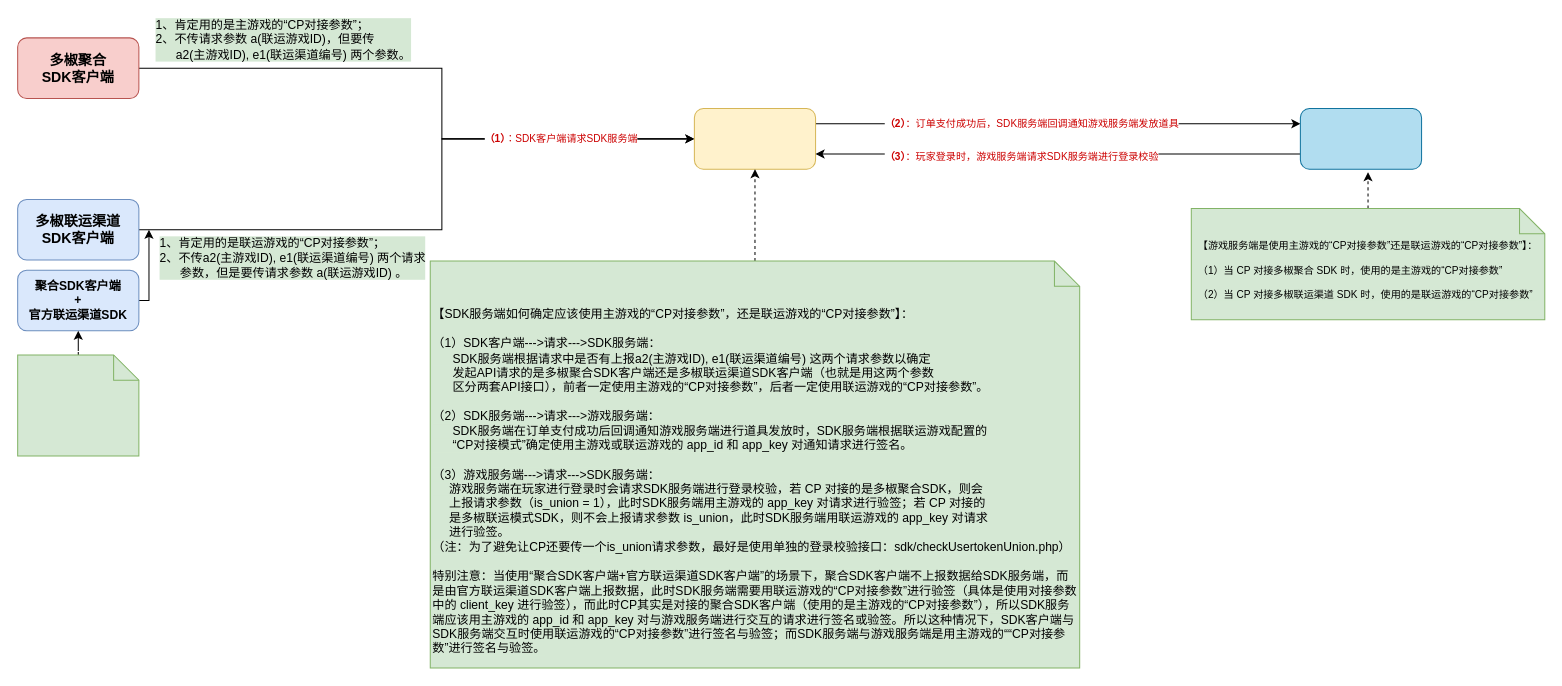
Some shapes in this 1562 by 686 pixel diagram are drawn without their labels. Here are the shapes that lost their labels. From the top down, the centre of each, then its label:
(754,138): SDK服务端
(1360,138): 游戏服务端
(78,405): 多椒聚合SDK客户端无需上报任何请求，官方联运渠道SDK依然使用联运游戏的“CP对接参数”进行参数签名并上报请求
